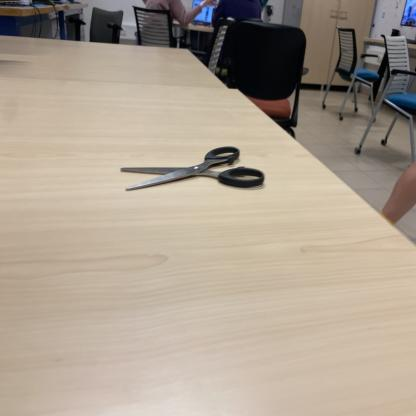scissors: (120, 144, 265, 196)
